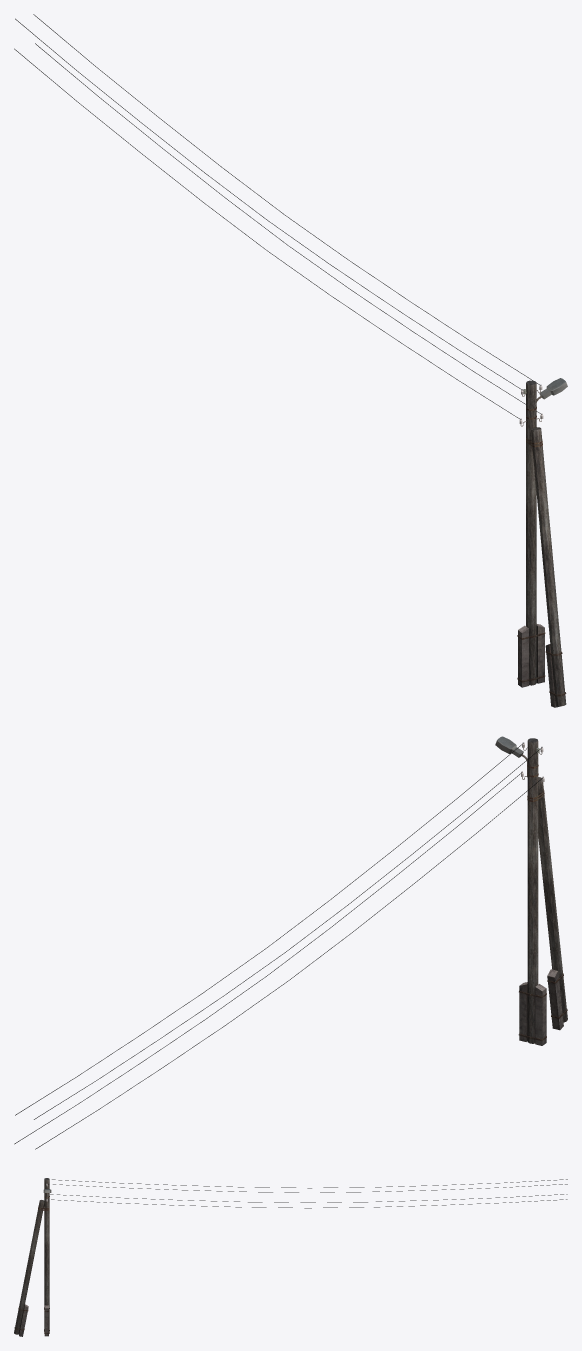
The model's file is Village2.FBX.
3 renders of one model, top to bottom at view 1: azimuth 30°, elevation 25°; view 2: azimuth 150°, elevation 25°; view 3: azimuth 270°, elevation 25°, orthographic. The views are drawn at different scales.
Visible parts, largest first — view 1: Village2, cabel; view 2: Village2, cabel; view 3: Village2, cabel.
Part boxes in pixels (<box>): Village2: <box>517,378,567,707</box>; cabel: <box>14,14,540,418</box>; Village2: <box>495,736,567,1045</box>; cabel: <box>14,743,542,1149</box>; Village2: <box>14,1178,51,1336</box>; cabel: <box>47,1179,567,1208</box>.
Size of the model in its own units: 1.35 by 27.16 by 8.49.
